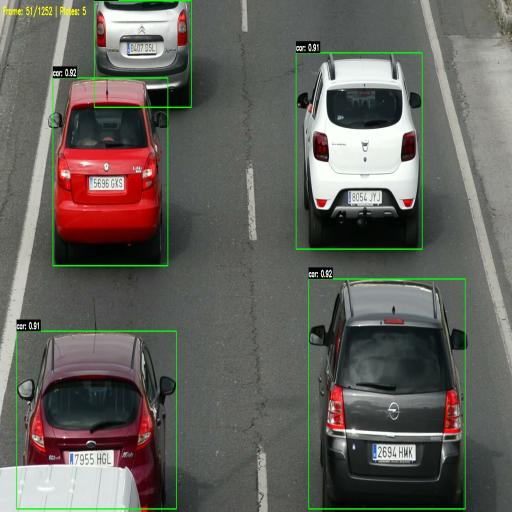license-plate: (372, 443, 416, 463), (69, 449, 114, 466), (348, 190, 382, 205), (89, 177, 125, 190), (127, 42, 156, 55)
